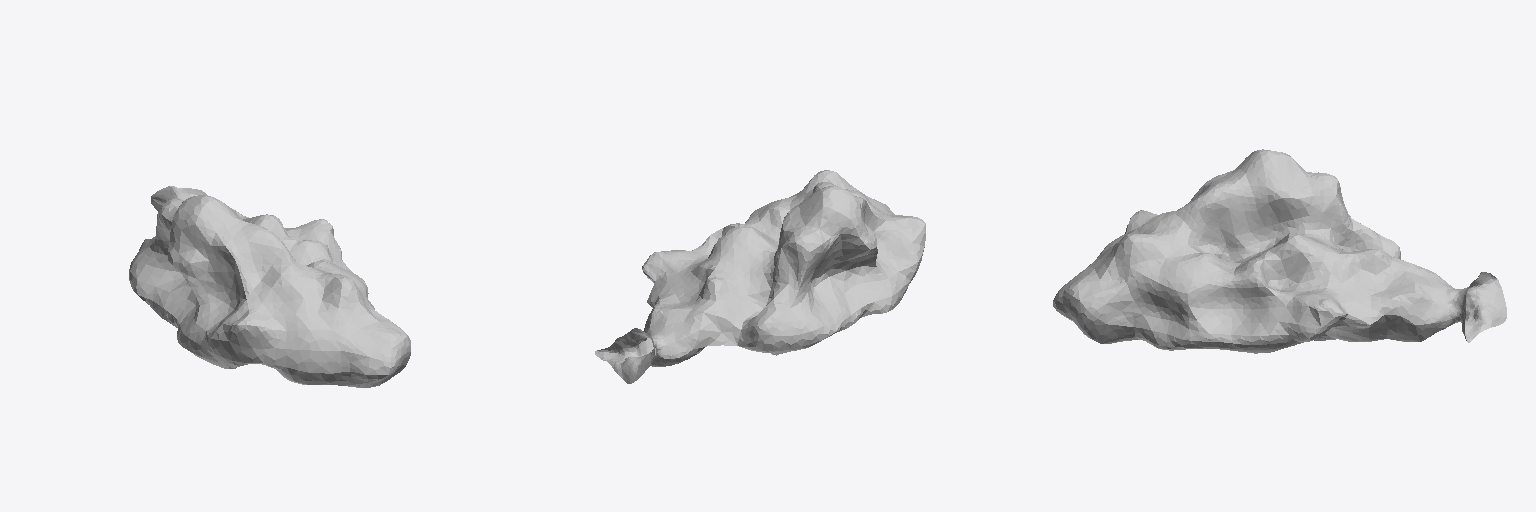
Rendered from cave_old.obj.
3 renders of one model, left to right at view 1: azimuth 30°, elevation 25°; view 2: azimuth 150°, elevation 25°; view 3: azimuth 270°, elevation 25°, orthographic.
Visible parts, largest first — view 1: cave_Icosphere.001; view 2: cave_Icosphere.001; view 3: cave_Icosphere.001.
Part boxes in pixels (x1,y1,x2,y2): cave_Icosphere.001: (129, 186, 410, 387); cave_Icosphere.001: (595, 170, 925, 383); cave_Icosphere.001: (1053, 149, 1506, 353).
Bounding box in the file's own units: 19.29 × 14.3 × 37.96.